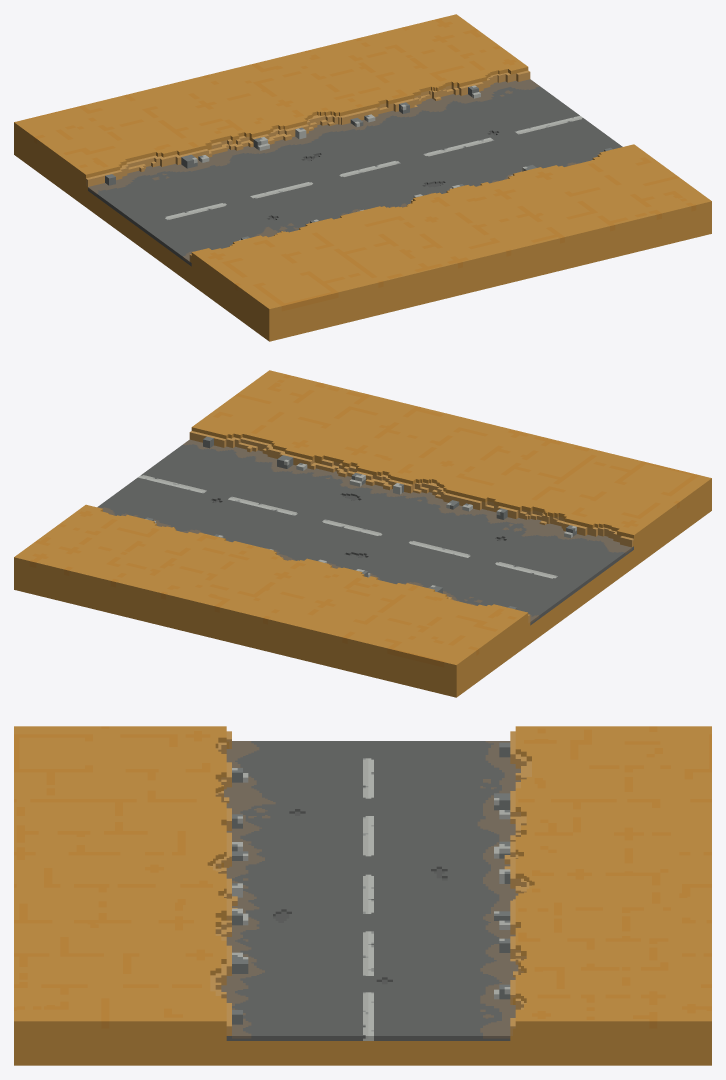
The model's file is continuous_road.fbx.
3 views of the same model, one above another, from view 1: azimuth 30°, elevation 25°; view 2: azimuth 150°, elevation 25°; view 3: azimuth 270°, elevation 25° (orthographic). The views are drawn at different scales.
Parts seen in each view (by area): view 1: ObjObject.001; view 2: ObjObject.001; view 3: ObjObject.001.
Boxes of the visible parts, <box> form: ObjObject.001: <box>14,14,711,341</box>; ObjObject.001: <box>14,370,711,697</box>; ObjObject.001: <box>14,726,711,1065</box>.
Size of the model in its own units: 2560 by 180 by 2560.
1 material, 1 textured.
